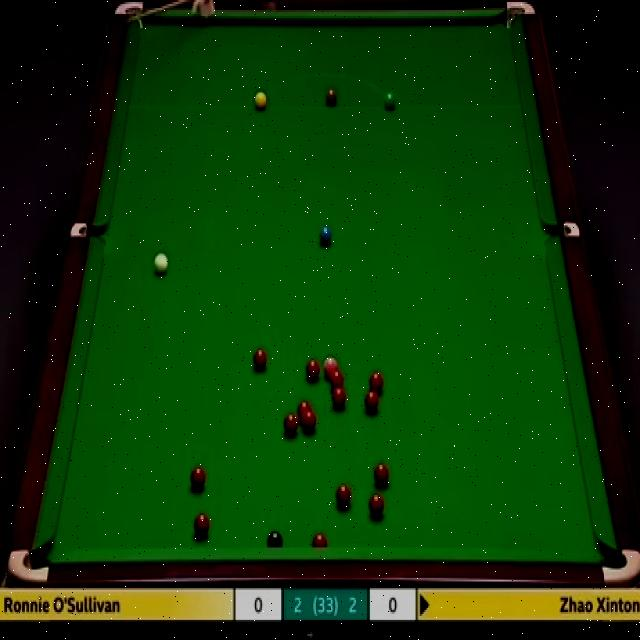black-ball: (266, 530, 282, 549)
blue-ball: (318, 225, 332, 248)
brown-ball: (326, 90, 338, 108)
green-ball: (383, 91, 399, 110)
pink-ball: (322, 354, 339, 372)
red-ball: (193, 512, 211, 540), (368, 491, 385, 517), (282, 411, 299, 437), (190, 464, 206, 490), (336, 482, 351, 509), (364, 390, 380, 414), (301, 410, 317, 433), (374, 462, 390, 485), (252, 348, 268, 370), (369, 370, 384, 393), (331, 387, 346, 409), (312, 530, 328, 549), (306, 358, 320, 379), (329, 370, 344, 386), (296, 400, 313, 414)
white-ball: (153, 251, 168, 276)
yellow-ball: (254, 89, 268, 109)
